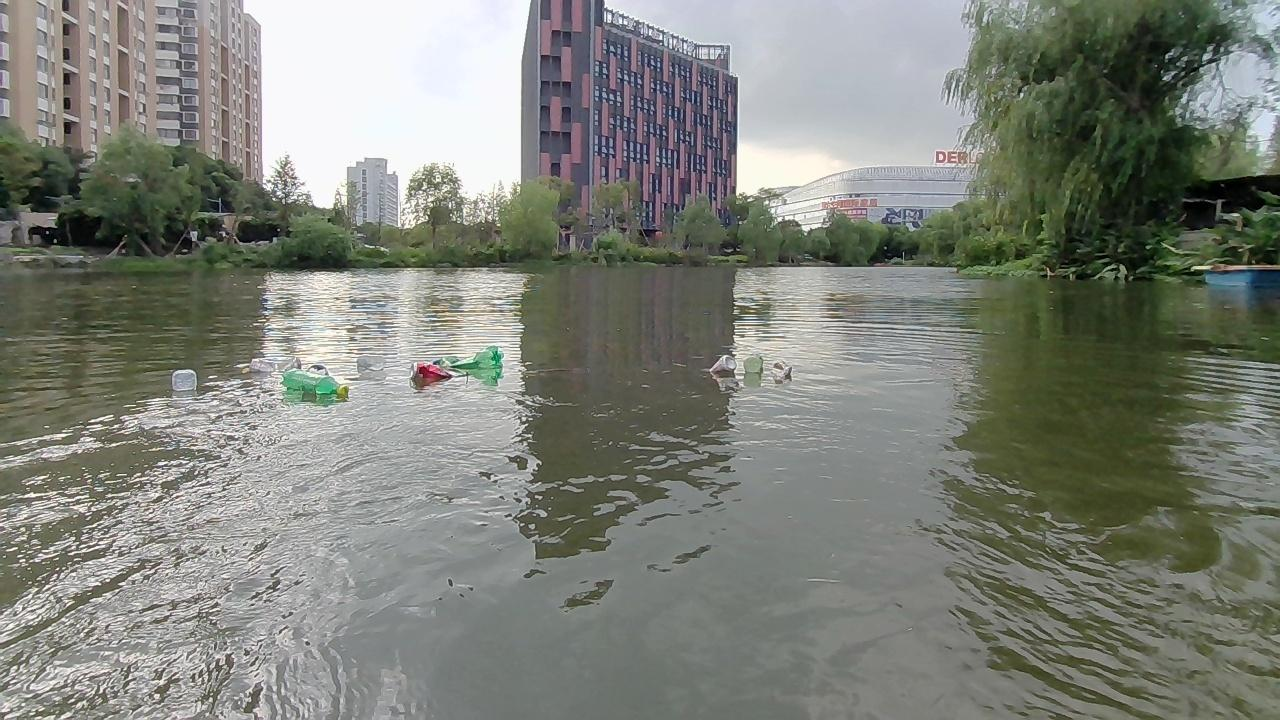bottle: (437, 343, 509, 373), (281, 368, 347, 397), (413, 360, 456, 390), (255, 356, 299, 373), (766, 361, 791, 386), (171, 366, 197, 389), (708, 352, 735, 374), (355, 352, 382, 367), (744, 352, 761, 374)
